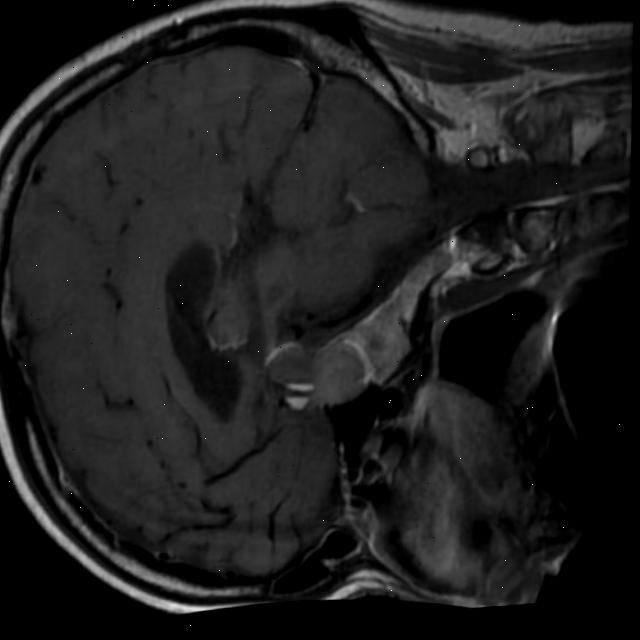Pituitary: (262, 333, 374, 413)
